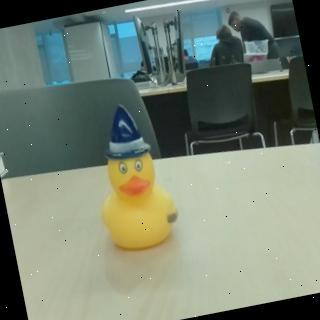duck_specialty: (81, 96, 186, 257)
